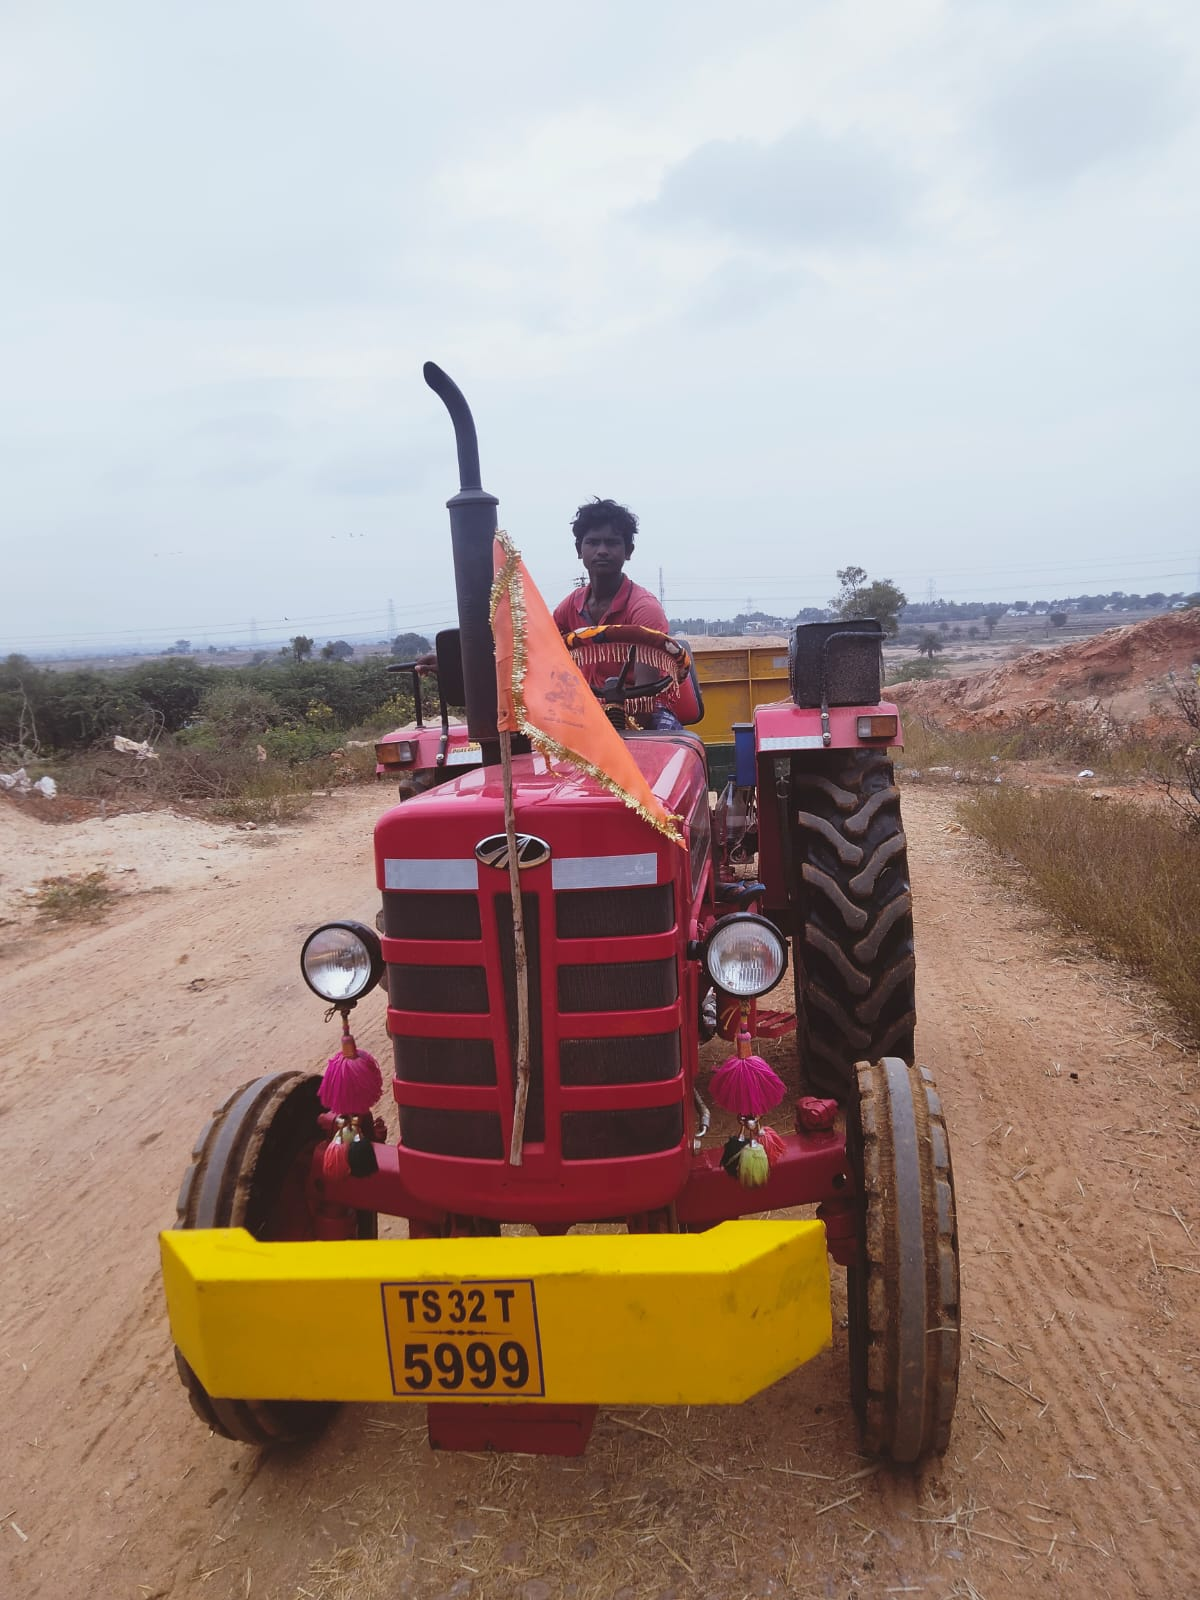license_plate: (366, 1265, 556, 1414)
